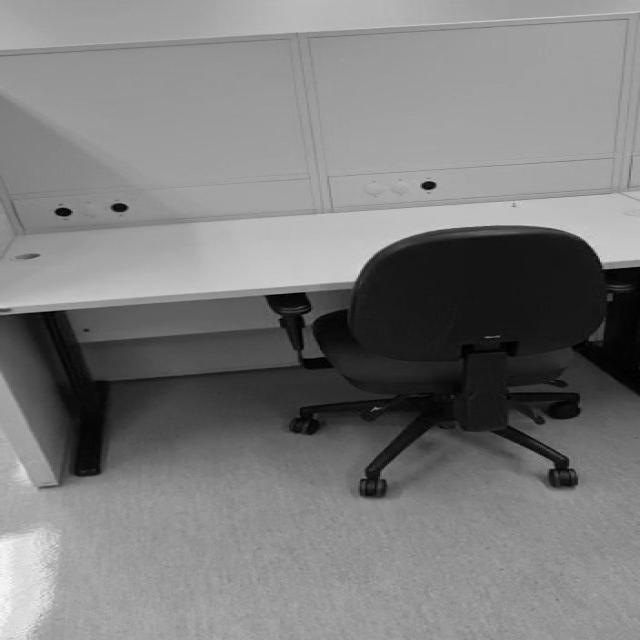chair: (265, 227, 607, 500)
